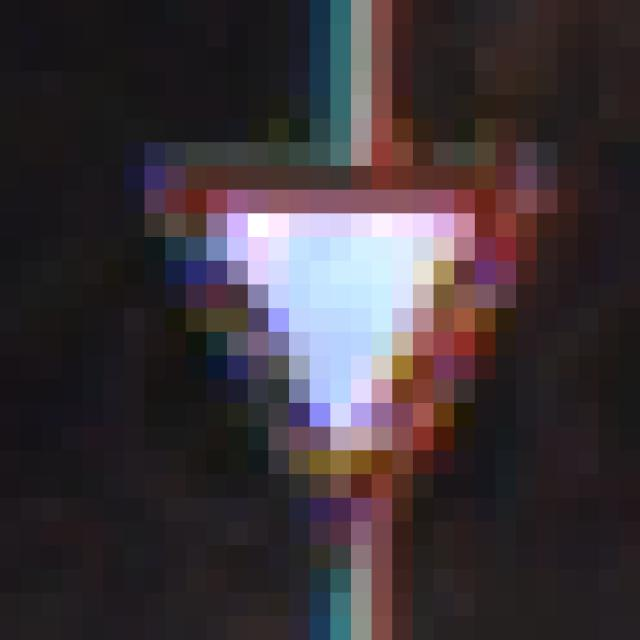Give Way: (125, 120, 538, 523)
